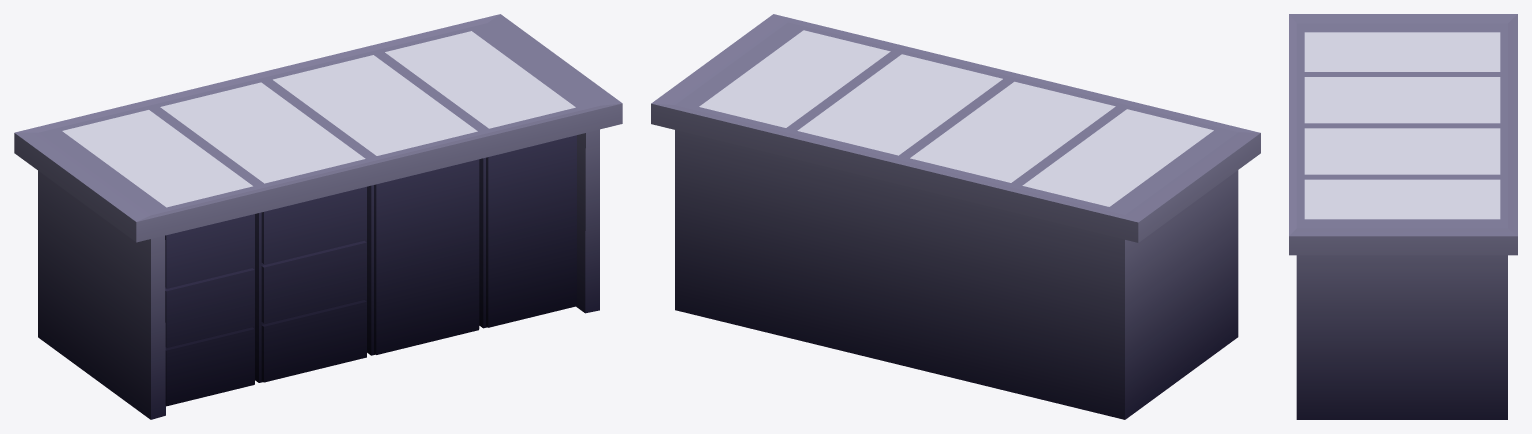
Rendered from New Table.fbx.
3 renders of one model, left to right at view 1: azimuth 30°, elevation 25°; view 2: azimuth 150°, elevation 25°; view 3: azimuth 270°, elevation 25°, orthographic. The views are drawn at different scales.
Parts seen in each view (by area): view 1: Cube.001; view 2: Cube.001; view 3: Cube.001.
Boxes of the visible parts, x1,y1,x2,y2 form: Cube.001: [14, 14, 622, 419]; Cube.001: [651, 14, 1260, 419]; Cube.001: [1289, 14, 1517, 419].
Bounding box in the file's own units: 1650 × 666 × 718.
1 material, 1 textured.
